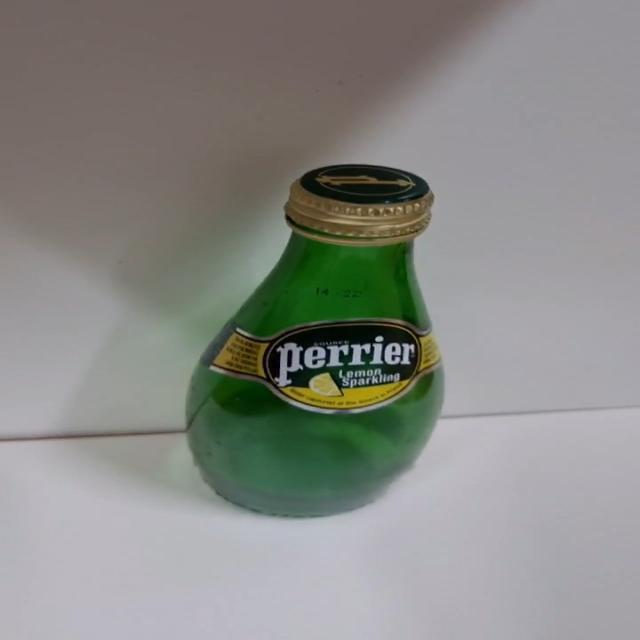Glass: (184, 164, 446, 521)
